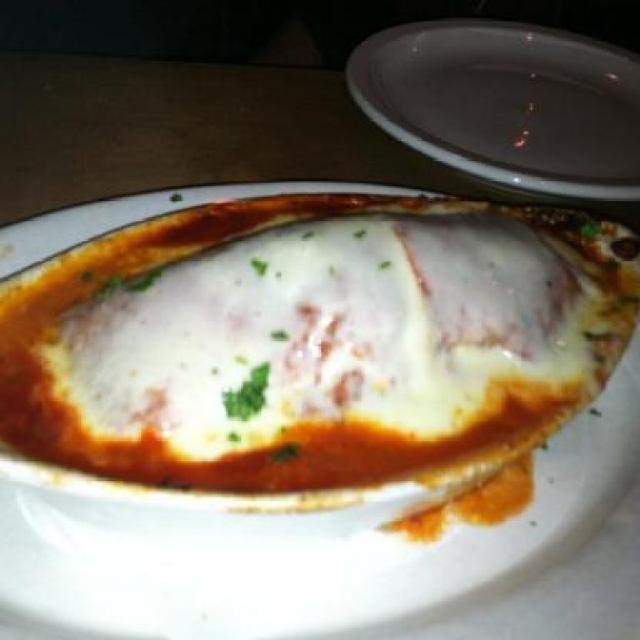Lasagna: (59, 196, 576, 478)
